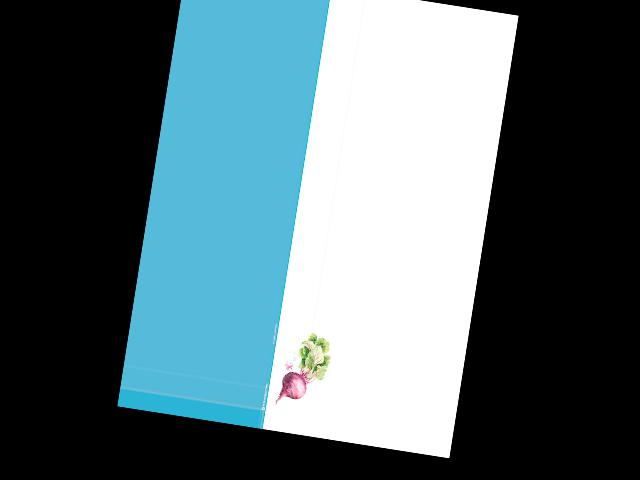beet: (274, 328, 333, 411)
